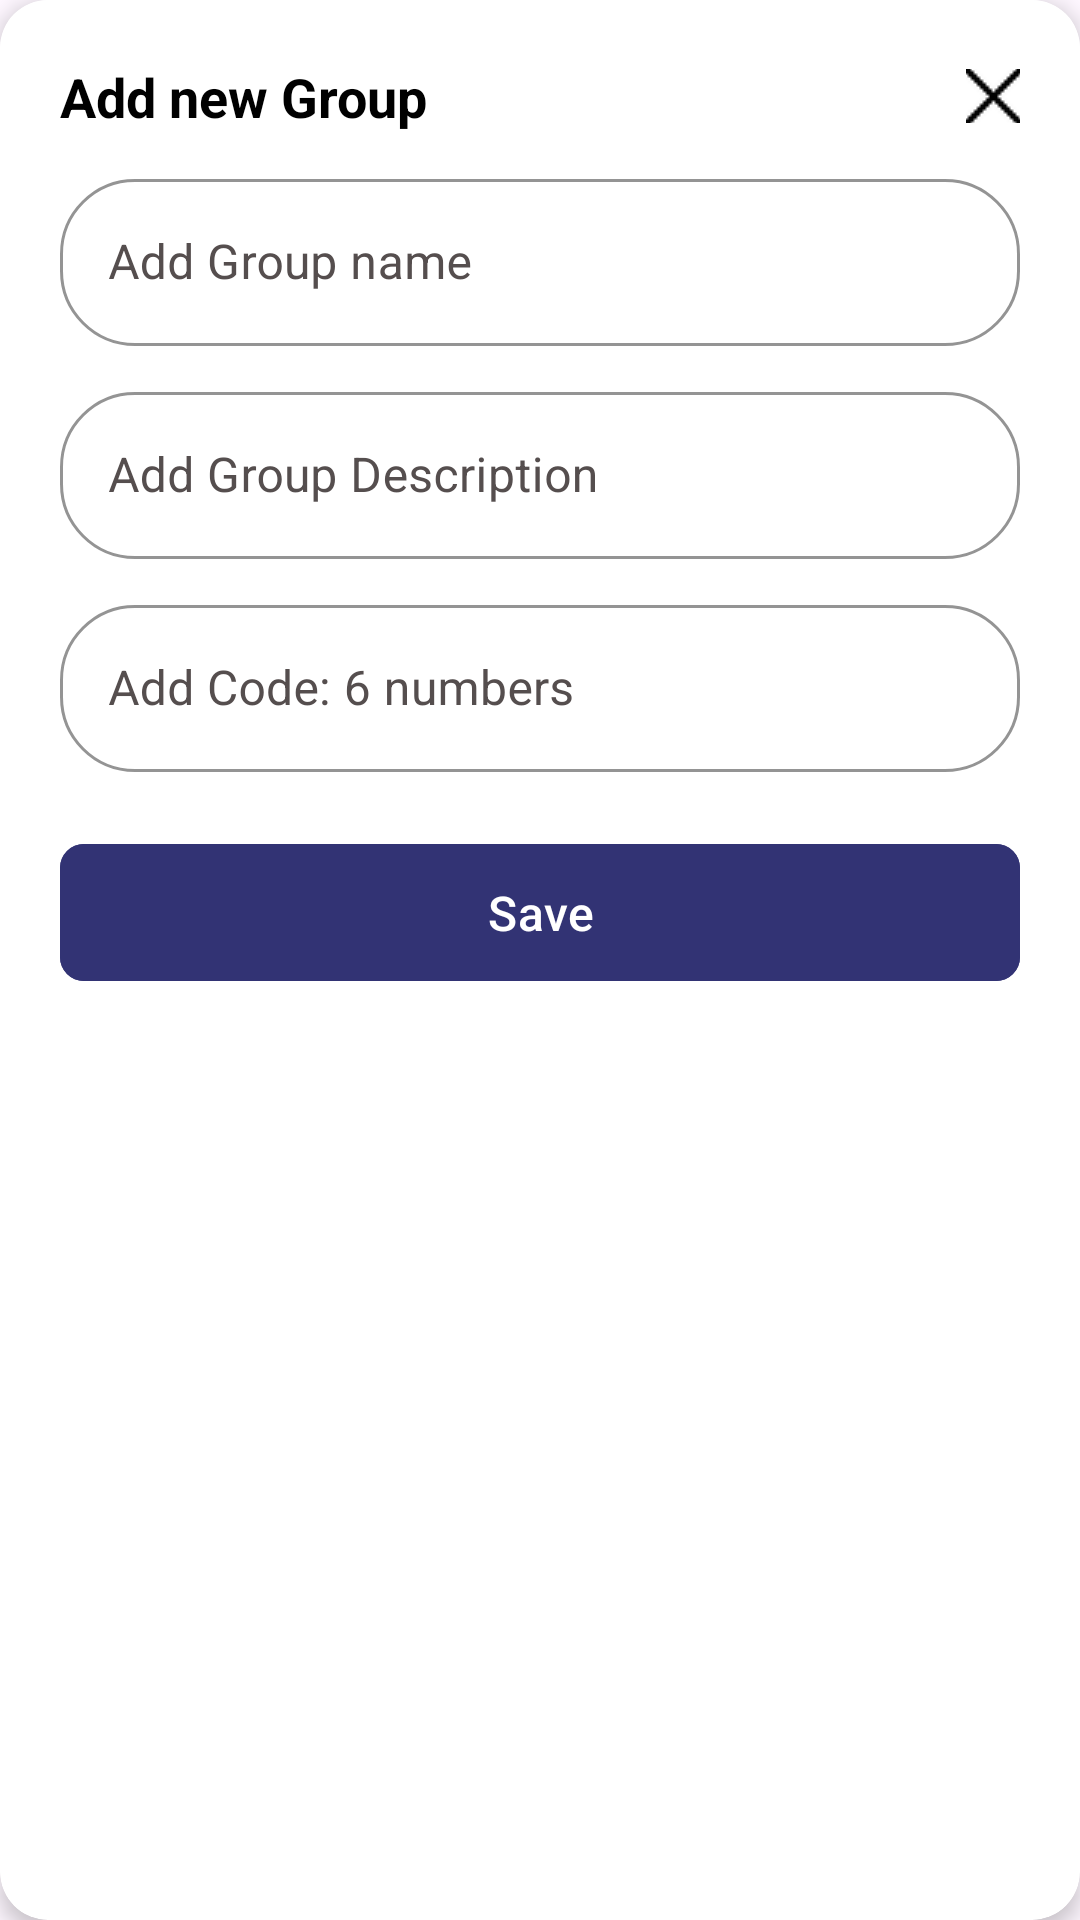

Icons on this 1080×1920 Android screen, each with its box as {"left": x1, "top": y1, "right": x2, "bottom": y2}:
close: {"left": 966, "top": 69, "right": 1020, "bottom": 123}
